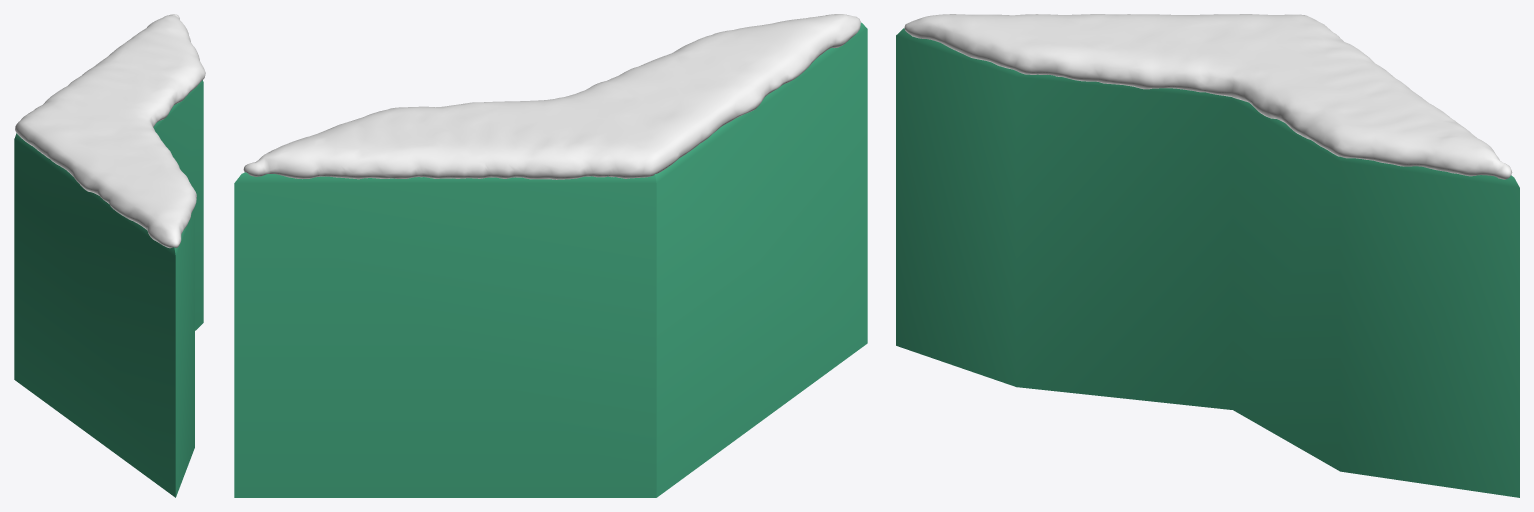
The model's file is hex_forest_waterA_empty.fbx.
3 renders of one model, left to right at view 1: azimuth 30°, elevation 25°; view 2: azimuth 150°, elevation 25°; view 3: azimuth 270°, elevation 25°, orthographic. The views are drawn at different scales.
Visible parts, largest first — view 1: hex_forest_waterA_empty, SnowBall.001; view 2: hex_forest_waterA_empty, SnowBall.001; view 3: hex_forest_waterA_empty, SnowBall.001.
Boxes of the visible parts, left/top/right/bottom form: hex_forest_waterA_empty: left=14, top=80, right=203, bottom=497; SnowBall.001: left=15, top=14, right=205, bottom=248; hex_forest_waterA_empty: left=234, top=22, right=867, bottom=497; SnowBall.001: left=243, top=14, right=860, bottom=179; hex_forest_waterA_empty: left=896, top=28, right=1519, bottom=497; SnowBall.001: left=904, top=14, right=1512, bottom=179.
Bounding box in the file's own units: 102 × 103 × 173.
